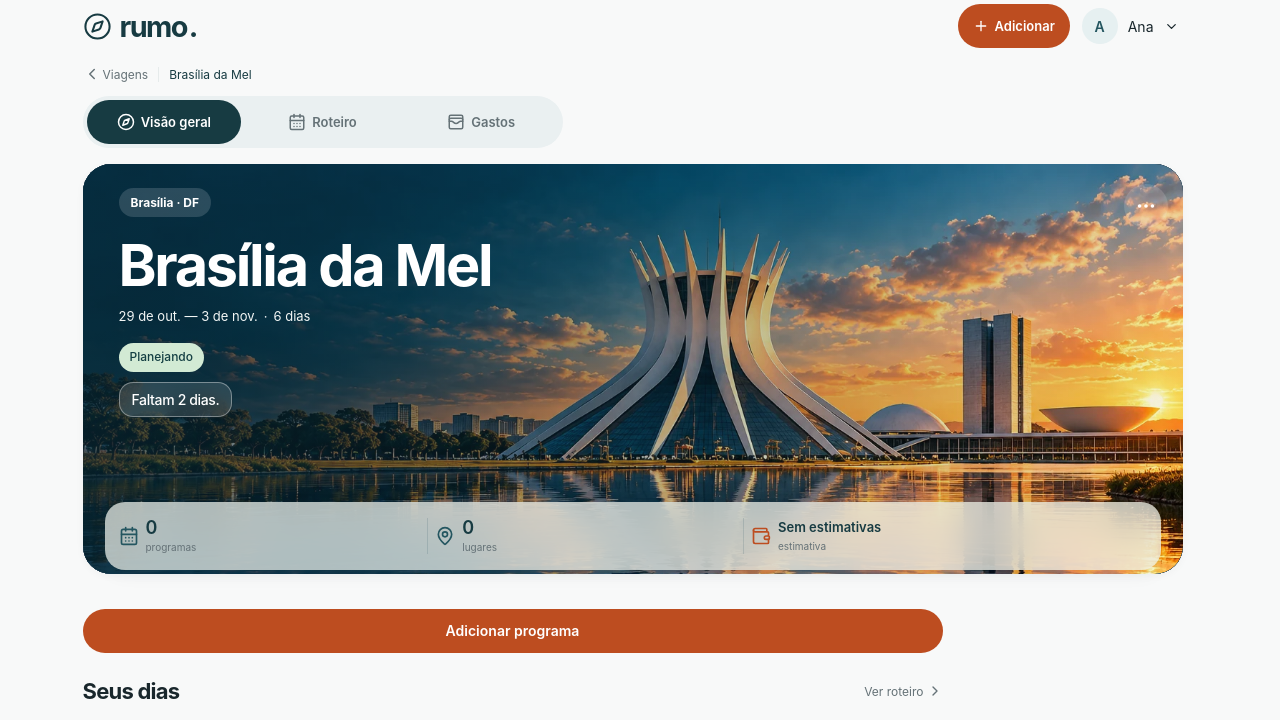
Test case: abre Editar viagem após a sequência de foco de um toque mobile
Click the heading named "Mais opções da viagem" at (1146, 206), box [1124, 184, 1168, 228]
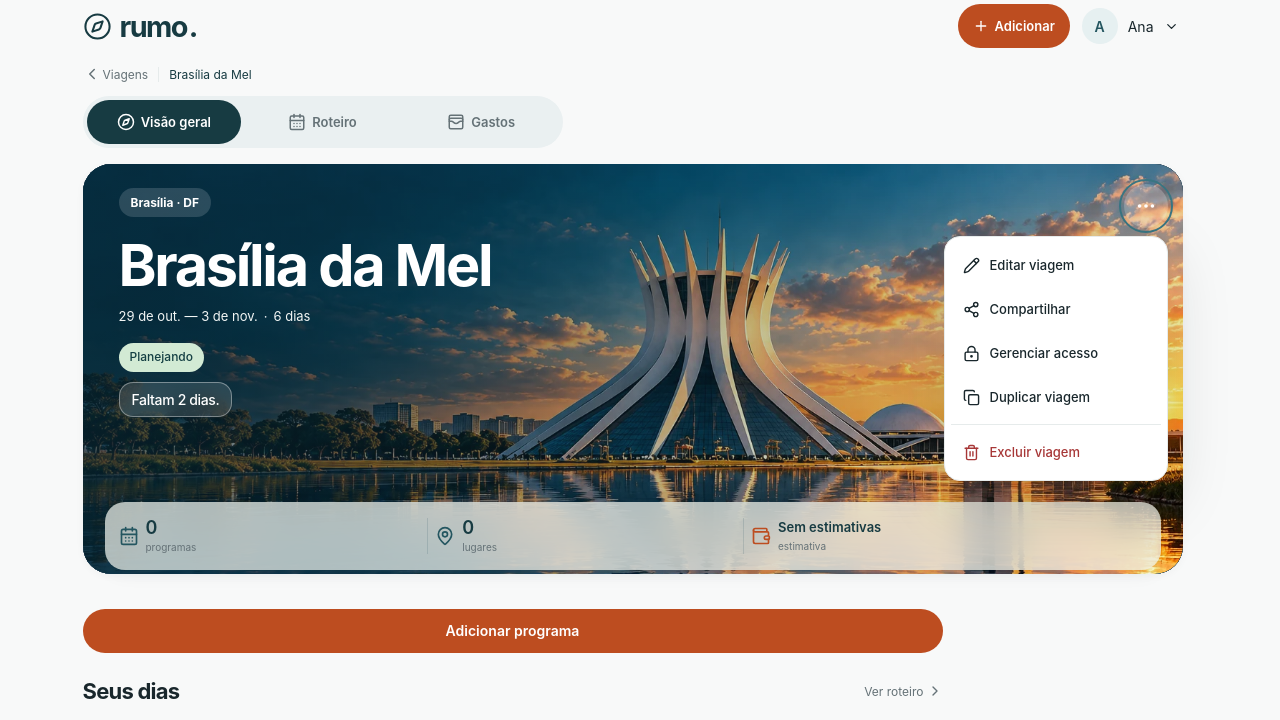
Press the mouse on the button "Editar viagem" at (1056, 265), box [950, 243, 1160, 287]
Leave the heading named "Mais opções da viagem", box [1124, 184, 1168, 228]
expect the button "Editar viagem" is shown: met
Click the button "Editar viagem" at (1056, 265), box [950, 243, 1160, 287]
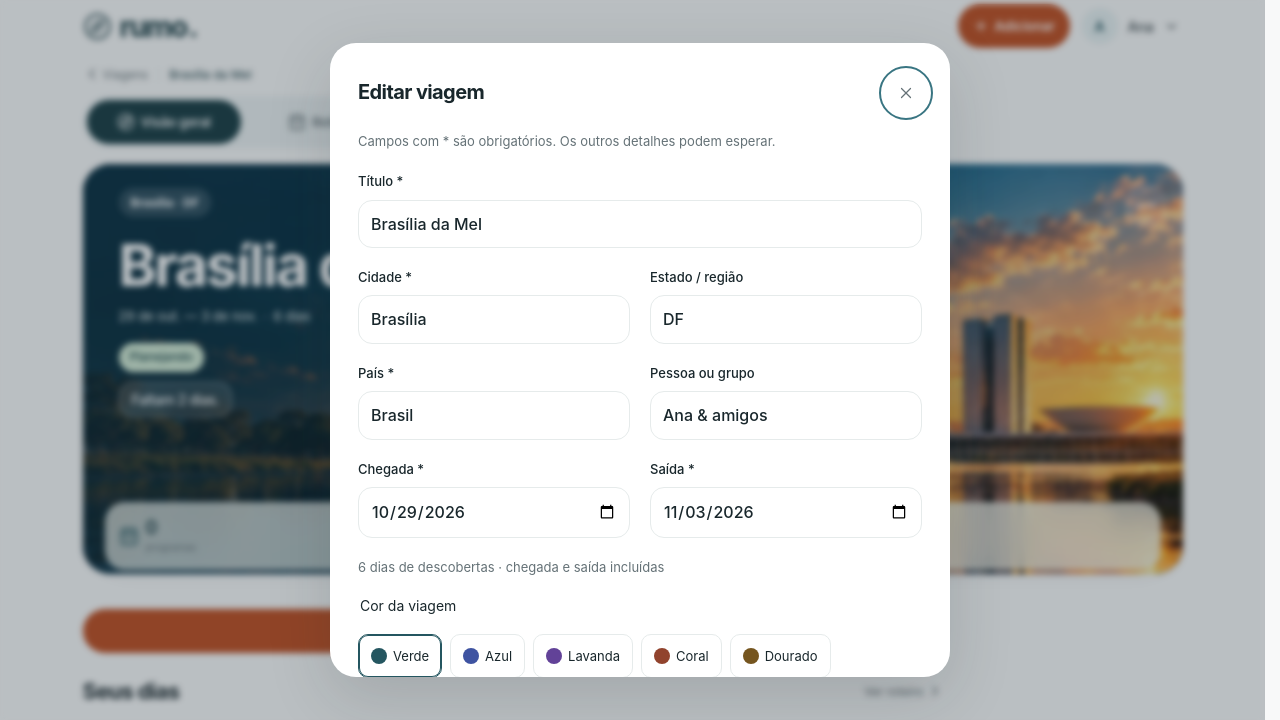
expect the heading "Editar viagem" is shown: met, box [358, 79, 484, 105]
expect the button named "Fechar" is shown: met
Click the button named "Fechar" at (906, 93), box [884, 71, 928, 115]
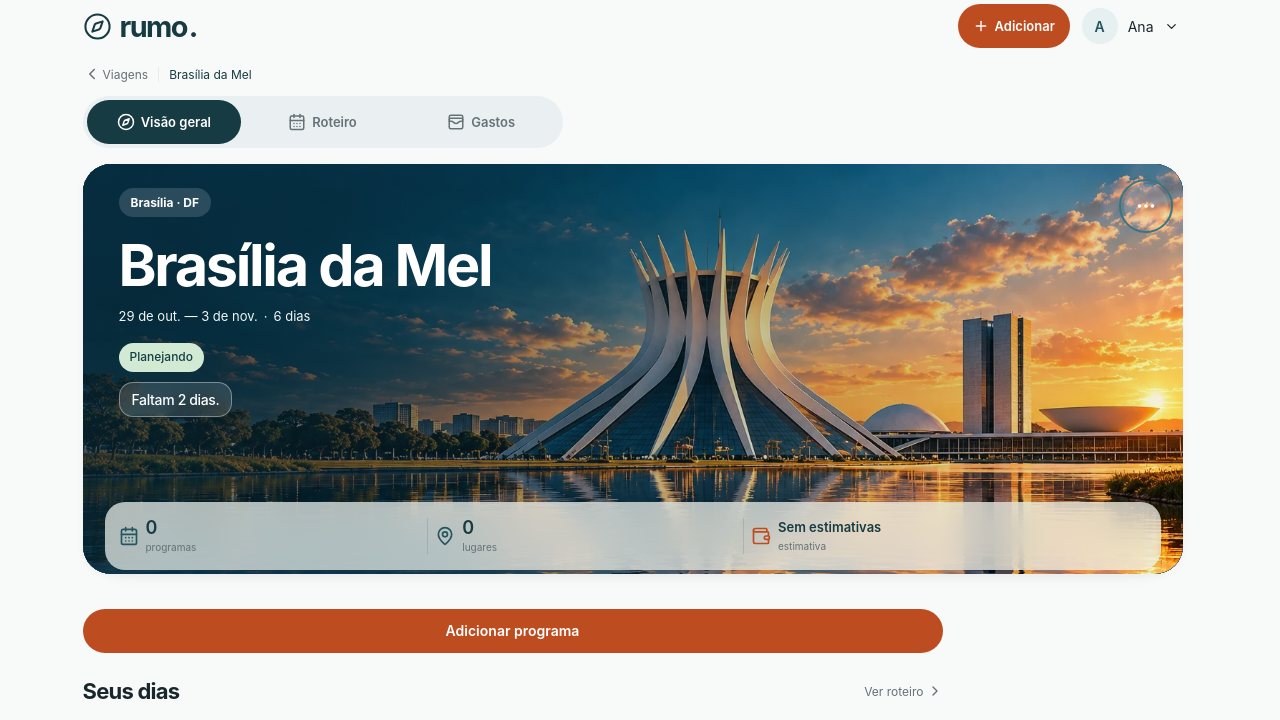
expect the dialog is gone: met
